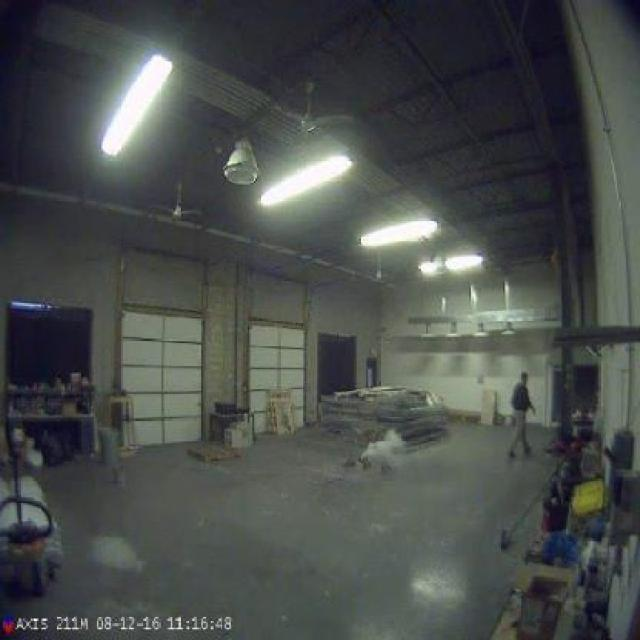fire: (358, 424, 407, 472)
